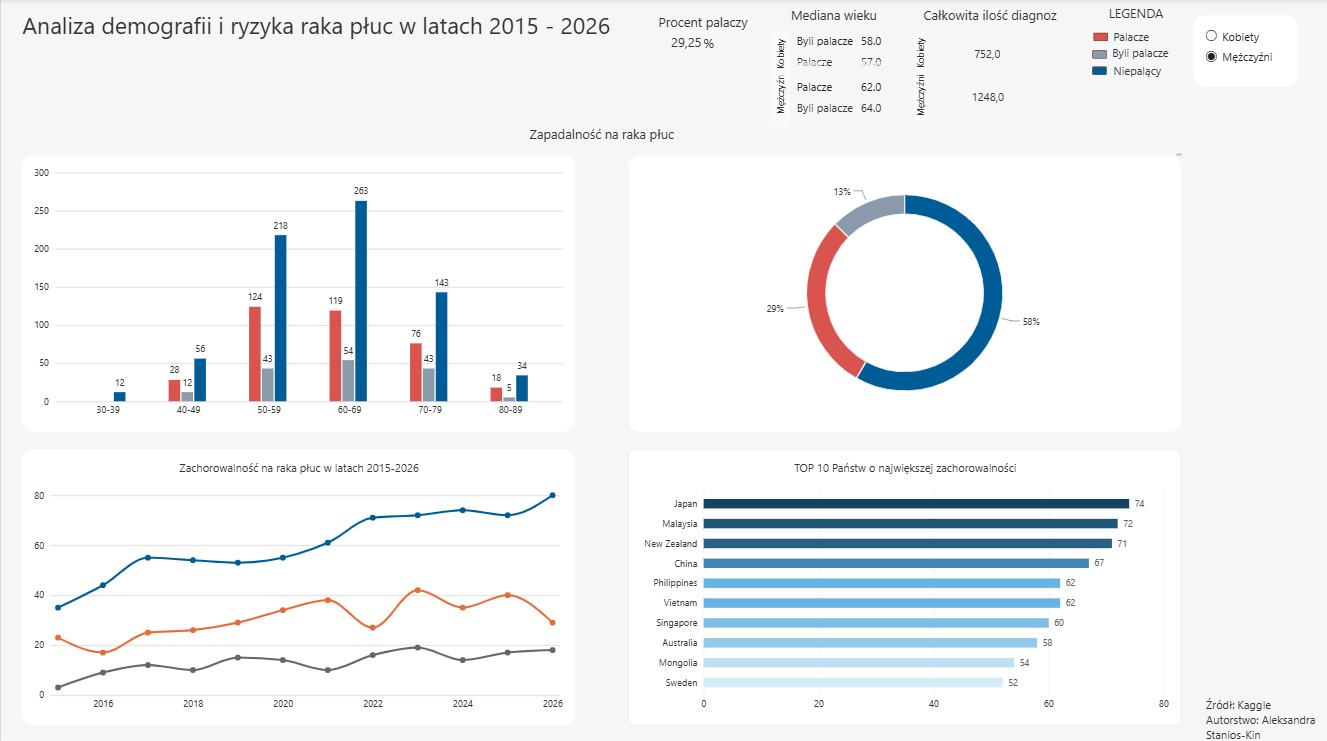

Layout of this report page (visuals, bound fields, positions):
{"tool":"powerbi","page":{"name":"Dashboard","canvas":[1920,1080],"ordinal":0},"visuals":[{"type":"textbox","title":"Analiza demografii i ryzyka raka płuc w latach 2015 - 2026","box":[30.8,14.5,877.7,54.3],"z":0},{"type":"tableEx","title":"Mediana wieku diagnozy","fields":{"Values":["mediana.Column1","mediana.Column3"]},"box":[1128.8,0,192.5,128.8],"z":1000},{"type":"tableEx","title":"Mediana wieku diagnozy - mężczyźni","fields":{"Values":["mediana.Column1","mediana.Column3"]},"box":[1128.8,68.8,192.5,125],"z":2000},{"type":"cardVisual","fields":{"Data":["płuca all.całkowita ilość diagnoz"],"Rows":["płuca all.gender"]},"box":[1321.2,41.2,196.7,73.3],"z":3000},{"type":"textbox","box":[14,632.5,317,161],"z":4000},{"type":"shape","box":[1113.8,88.8,28.8,96.2],"z":5000},{"type":"shape","box":[1112.5,47.5,30,63.8],"z":6000},{"type":"textbox","title":"Mediana wieku diagnozy","box":[1143.2,10,124.9,21.7],"z":7000},{"type":"textbox","title":"Całkowita ilość diagnoz","box":[1335,10,222.5,25],"z":8000},{"type":"cardVisual","fields":{"Data":["płuca all.całkowita ilość diagnoz"],"Rows":["płuca all.gender"]},"box":[1321.2,98.8,198.8,81.2],"z":9000},{"type":"cardVisual","fields":{"Data":["płuca all.Procent palaczy"]},"box":[960,35,76.2,53.8],"z":10000},{"type":"textbox","title":"Źródł: Kaggle","box":[1744,1010,136,22],"z":11000},{"type":"clusteredColumnChart","title":"Zapadalność na raka płuc","fields":{"Category":["Analiza czy więcej mężczyzn czy kobiet zachorowało.age_group"],"Series":["Analiza czy więcej mężczyzn czy kobiet zachorowało.smoking_status"],"Y":["Sum(Analiza czy więcej mężczyzn czy kobiet zachorowało.total_patient)"]},"box":[30,226,800,400],"z":12000},{"type":"donutChart","fields":{"Category":["Analiza czy więcej mężczyzn czy kobiet zachorowało.smoking_status"],"Y":["Sum(Analiza czy więcej mężczyzn czy kobiet zachorowało.total_patient)"]},"box":[908,226,800,400],"z":13000},{"type":"textbox","title":"Zapadalność na raka płuc","box":[30,182,1678,44],"z":14000},{"type":"shape","box":[1581.4,49.1,21.1,12.2],"z":15000},{"type":"textbox","title":"Palacze","box":[1610,42.9,168.6,34.3],"z":17000},{"type":"shape","box":[1580.5,73.6,21.1,12.2],"z":18000},{"type":"textbox","title":"Byli palacze","box":[1609.5,67.2,167.8,34.4],"z":19000},{"type":"shape","box":[1580.4,98,21.1,12.2],"z":20000},{"type":"textbox","title":"Niepalący","box":[1610,91.7,167.1,34.3],"z":21000},{"type":"textbox","title":"LEGENDA","box":[1581.4,7.1,123,34],"z":22000},{"type":"lineChart","title":"Zachorowalność na raka płuc w latach 2015-2026 ","fields":{"Category":["zachorowalnosc 2015 2026.diagnosis_year"],"Series":["zachorowalnosc 2015 2026.smoking_status"],"Y":["Sum(zachorowalnosc 2015 2026.count)"]},"box":[30,652,800,400],"z":23000},{"type":"listSlicer","fields":{"Values":["Słownik_Plec.Płeć Słownik"]},"box":[1727.1,22.9,150,102.9],"z":24000},{"type":"clusteredBarChart","title":"TOP 10 Państw o największej zachorowalności","fields":{"Category":["płuca all.country"],"Y":["płuca all.całkowita ilość diagnoz"]},"box":[908,652,800,400],"z":25000},{"type":"textbox","title":"%","box":[1016.2,50,40,40],"z":26000},{"type":"textbox","title":"Procent palaczy","box":[951.2,20,135,40],"z":26001},{"type":"textbox","title":"Autorstwo: Aleksandra Stanios-Kin","box":[1744,1032,176,42],"z":26002}]}

Visuals, with their boxes in screenshot pixels (x1, y1, x2, y2), scaled from the page's 1920x1080 canvas onto the 1327x741 screenshot:
"Analiza demografii i ryzyka raka płuc w latach 2015 - 2026" textbox: crop(21, 10, 628, 47)
"Mediana wieku diagnozy" tableEx: crop(780, 0, 913, 88)
"Mediana wieku diagnozy - mężczyźni" tableEx: crop(780, 47, 913, 133)
cardVisual - płuca all.całkowita ilość diagnoz x płuca all.gender: crop(913, 28, 1049, 79)
textbox: crop(10, 434, 229, 544)
shape: crop(770, 61, 790, 127)
shape: crop(769, 33, 790, 76)
"Mediana wieku diagnozy" textbox: crop(790, 7, 876, 22)
"Całkowita ilość diagnoz" textbox: crop(923, 7, 1076, 24)
cardVisual - płuca all.całkowita ilość diagnoz x płuca all.gender: crop(913, 68, 1051, 124)
cardVisual - płuca all.Procent palaczy: crop(664, 24, 716, 61)
"Źródł: Kaggle" textbox: crop(1205, 693, 1299, 708)
"Zapadalność na raka płuc" clusteredColumnChart: crop(21, 155, 574, 430)
donutChart - Analiza czy więcej mężczyzn czy kobiet zachorowało.smoking_status x Sum(Analiza czy więcej mężczyzn czy kobiet zachorowało.total_patient): crop(628, 155, 1180, 430)
"Zapadalność na raka płuc" textbox: crop(21, 125, 1180, 155)
shape: crop(1093, 34, 1108, 42)
"Palacze" textbox: crop(1113, 29, 1229, 53)
shape: crop(1092, 50, 1107, 59)
"Byli palacze" textbox: crop(1112, 46, 1228, 70)
shape: crop(1092, 67, 1107, 76)
"Niepalący" textbox: crop(1113, 63, 1228, 86)
"LEGENDA" textbox: crop(1093, 5, 1178, 28)
"Zachorowalność na raka płuc w latach 2015-2026 " lineChart: crop(21, 447, 574, 722)
listSlicer - Słownik_Plec.Płeć Słownik: crop(1194, 16, 1297, 86)
"TOP 10 Państw o największej zachorowalności" clusteredBarChart: crop(628, 447, 1180, 722)
"%" textbox: crop(702, 34, 730, 62)
"Procent palaczy" textbox: crop(657, 14, 751, 41)
"Autorstwo: Aleksandra Stanios-Kin" textbox: crop(1205, 708, 1326, 737)
